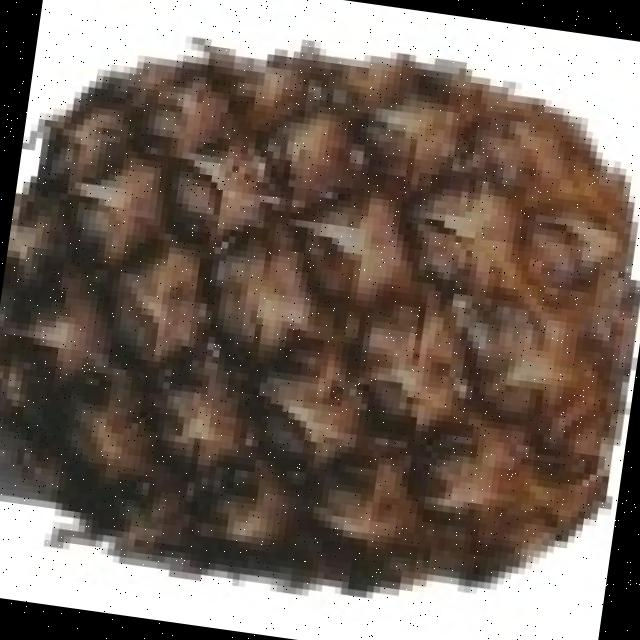pineapple: (0, 48, 640, 581)
